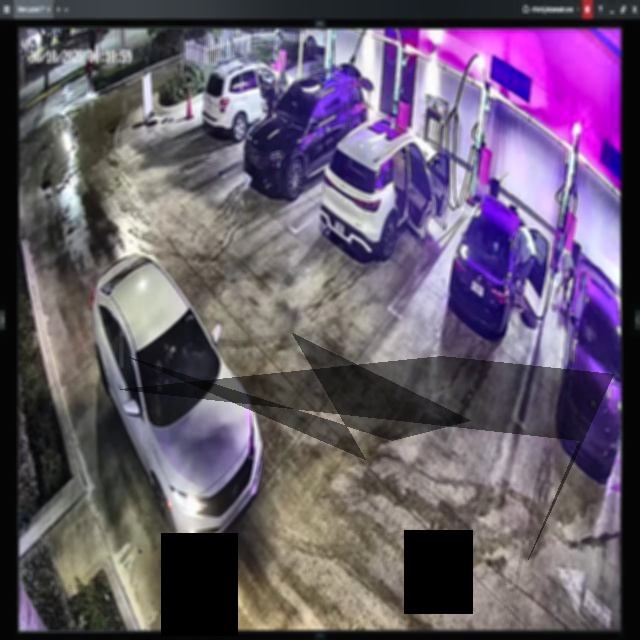Car: (89, 253, 261, 547), (322, 118, 448, 257), (244, 68, 368, 193), (449, 191, 546, 340)
